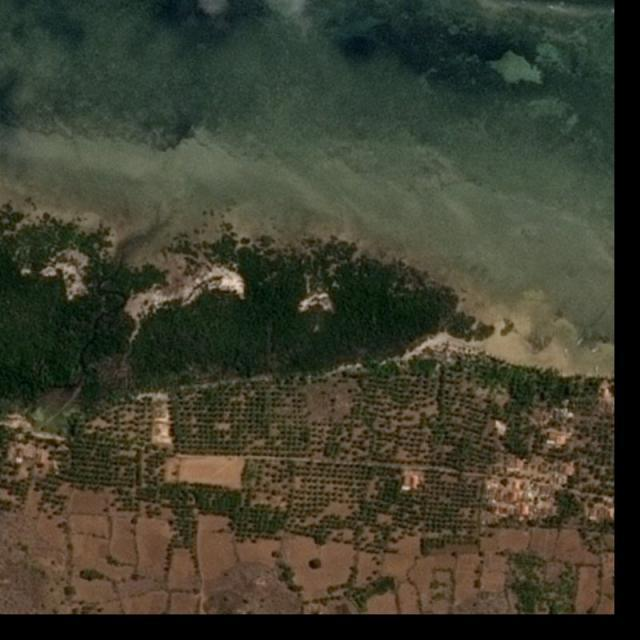ship: (575, 338, 585, 349), (590, 345, 600, 354), (563, 350, 570, 360)
